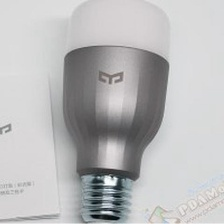light_bulb: (57, 0, 175, 224)
